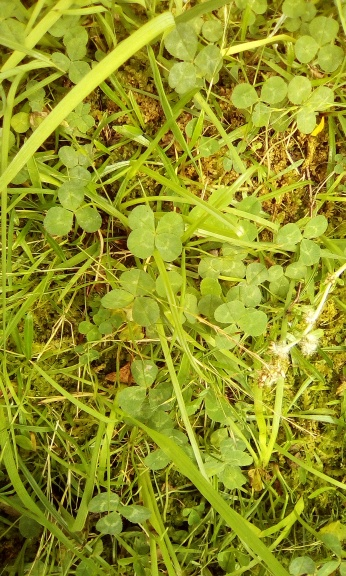4leaf: (127, 205, 184, 263)
